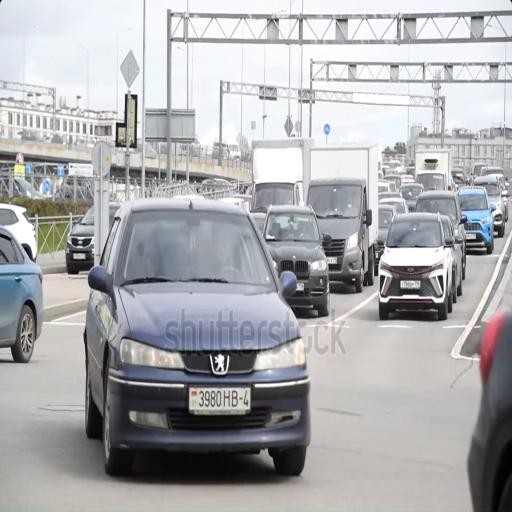License plates: (189, 387, 250, 414), (401, 281, 420, 289), (296, 282, 304, 291), (327, 257, 337, 264), (74, 253, 85, 259), (466, 234, 476, 239), (375, 248, 379, 260), (375, 252, 379, 260)
